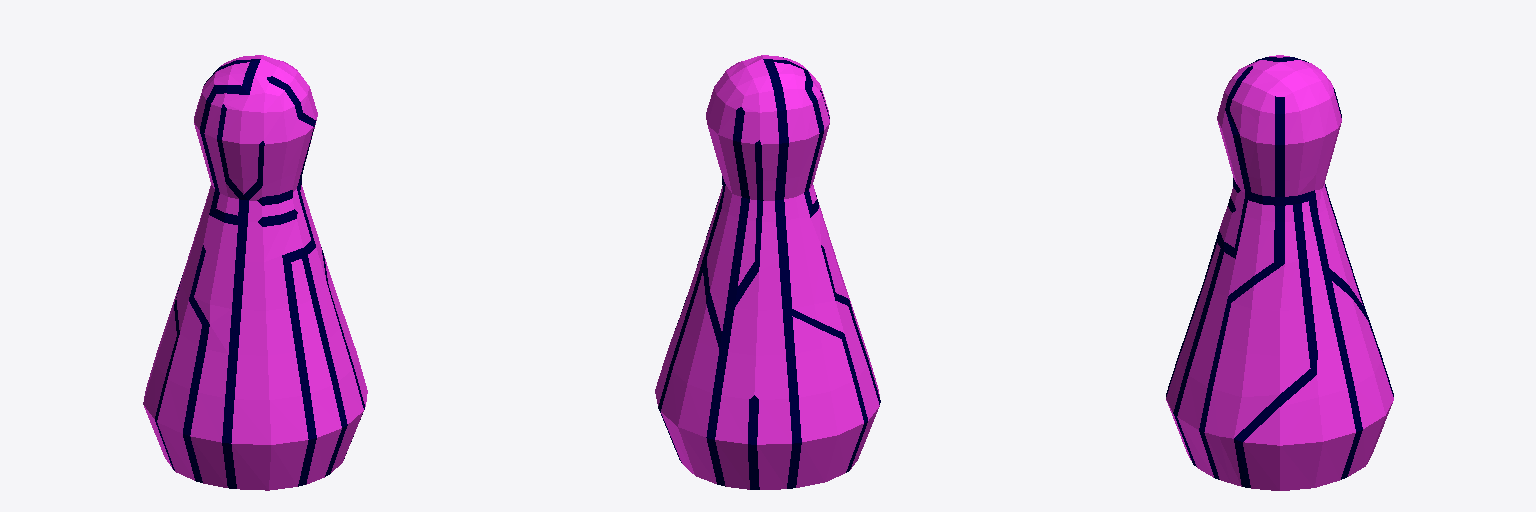
Rendered from chiplightpink.obj.
3 views of the same model, side by side, from view 1: azimuth 30°, elevation 25°; view 2: azimuth 150°, elevation 25°; view 3: azimuth 270°, elevation 25° (orthographic).
Parts seen in each view (by area): view 1: Куб.008_Куб.010; view 2: Куб.008_Куб.010; view 3: Куб.008_Куб.010.
Part boxes in pixels (x1,y1,x2,y2): Куб.008_Куб.010: (143,55,367,490); Куб.008_Куб.010: (655,55,880,489); Куб.008_Куб.010: (1166,55,1393,490).
Bounding box in the file's own units: 0.242 × 0.4544 × 0.24.